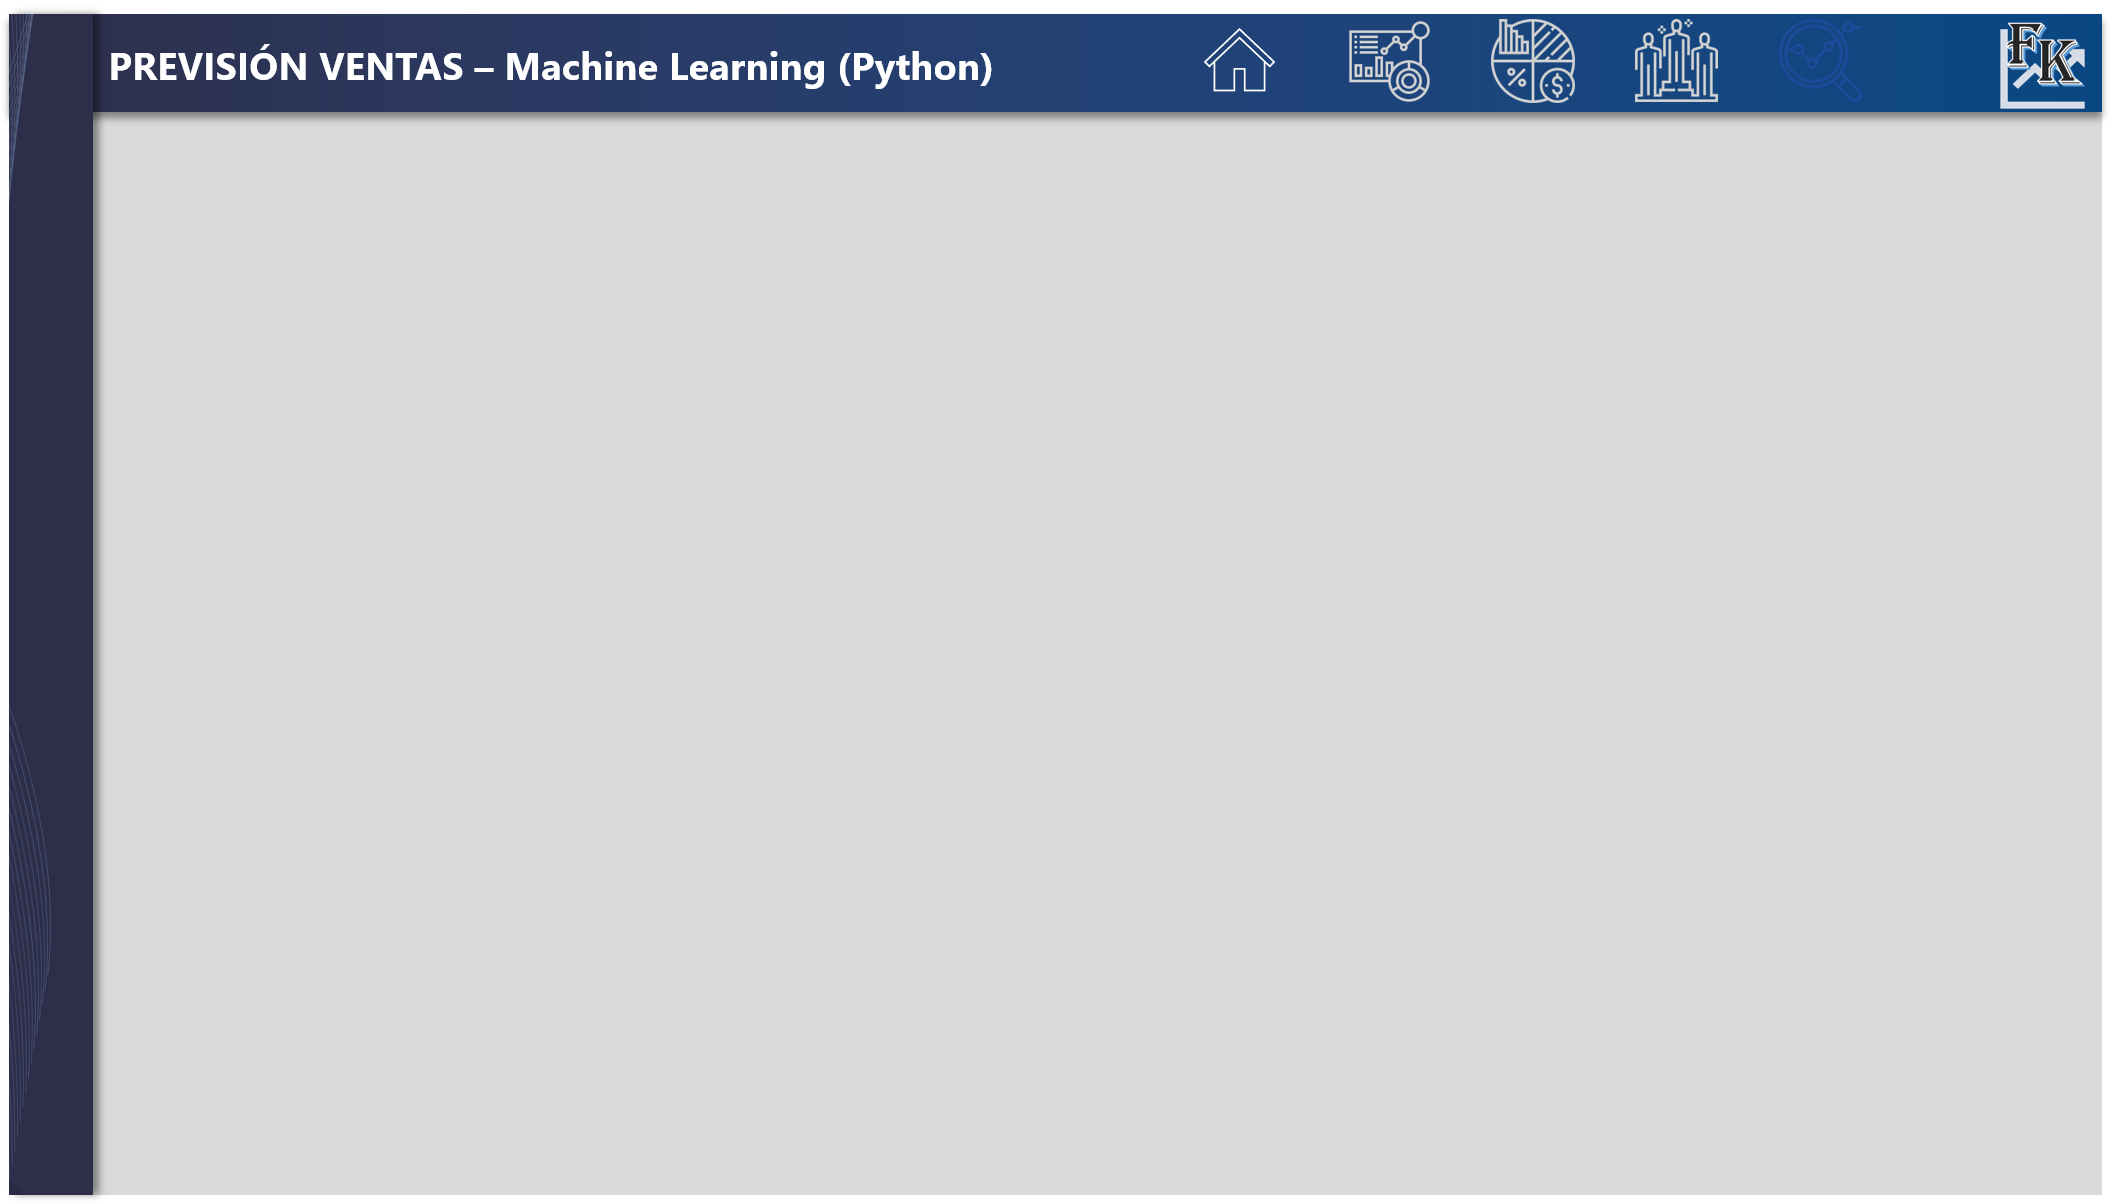

The dashboard page shown, as its layout file describes it:
{"tool":"powerbi","page":{"name":"Previsión","canvas":[1280,720],"ordinal":4},"visuals":[{"type":"actionButton","box":[814.8,0,54.2,57.8],"z":0},{"type":"actionButton","box":[903.4,0,52.9,57.8],"z":1},{"type":"actionButton","title":"Botón","box":[990.8,0,52.9,57.8],"z":2},{"type":"actionButton","box":[727.4,0,52.9,57.8],"z":3}]}

Visuals, with their boxes in screenshot pixels (x1, y1, x2, y2), scaled from the page's 1280x720 canvas onto the 2111x1204 screenshot:
actionButton: (x1=1344, y1=0, x2=1433, y2=97)
actionButton: (x1=1490, y1=0, x2=1577, y2=97)
"Botón" actionButton: (x1=1634, y1=0, x2=1721, y2=97)
actionButton: (x1=1200, y1=0, x2=1287, y2=97)
